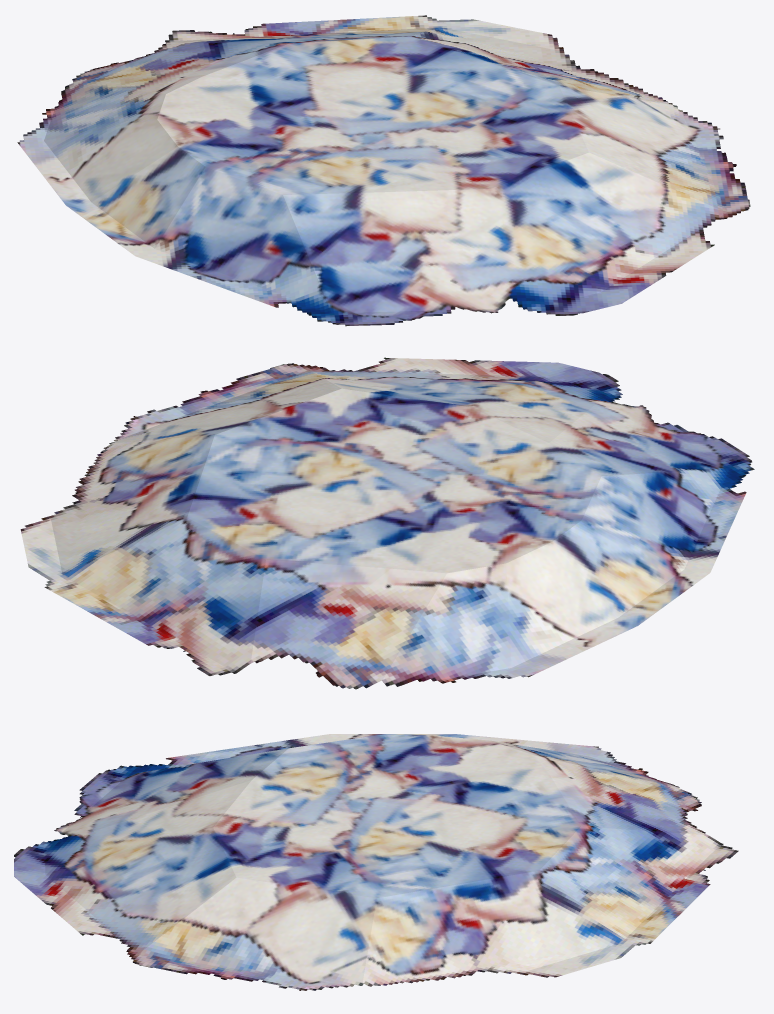
File: SM_RubbishPile.fbx
3 views of the same model, one above another, from view 1: azimuth 30°, elevation 25°; view 2: azimuth 150°, elevation 25°; view 3: azimuth 270°, elevation 25° (orthographic). The views are drawn at different scales.
Parts seen in each view (by area): view 1: SM_Rubble.001; view 2: SM_Rubble.001; view 3: SM_Rubble.001.
Part boxes in pixels (x1,y1,x2,y2): SM_Rubble.001: (17, 15, 750, 326); SM_Rubble.001: (20, 357, 754, 689); SM_Rubble.001: (14, 734, 738, 990).
Bounding box in the file's own units: 143 × 10.76 × 170.
